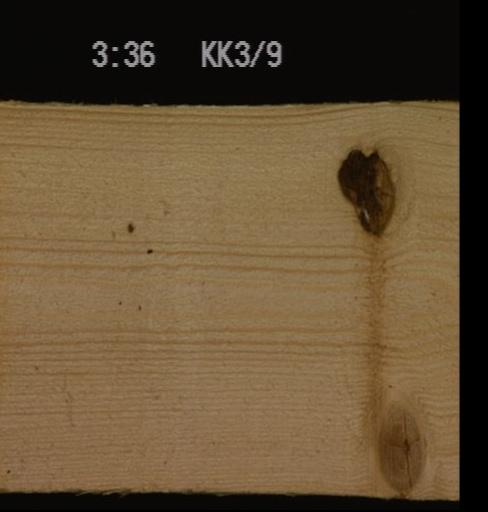edge_knot: (373, 404, 425, 493)
small_knot: (124, 220, 134, 233)
